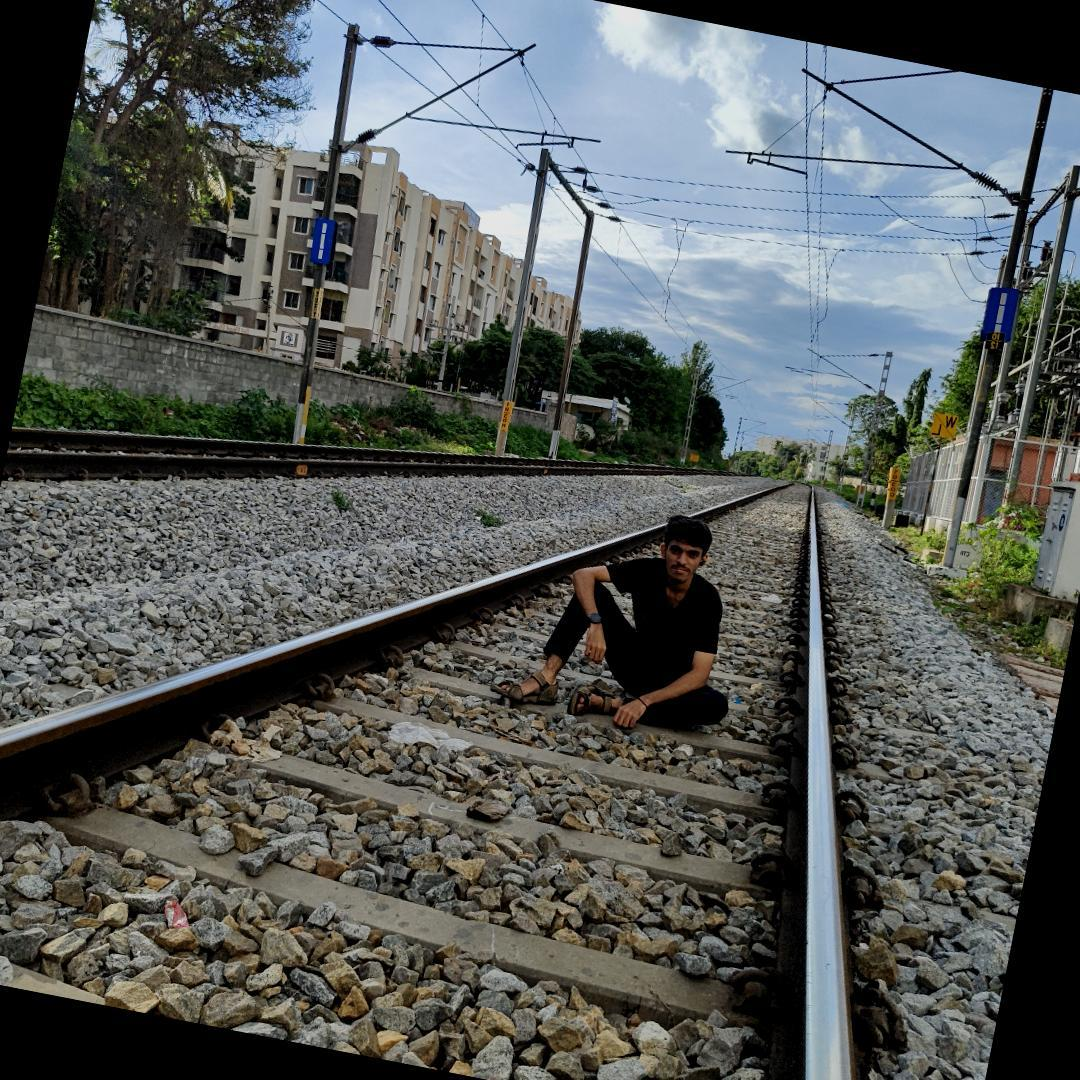sitting: (506, 487, 751, 741)
